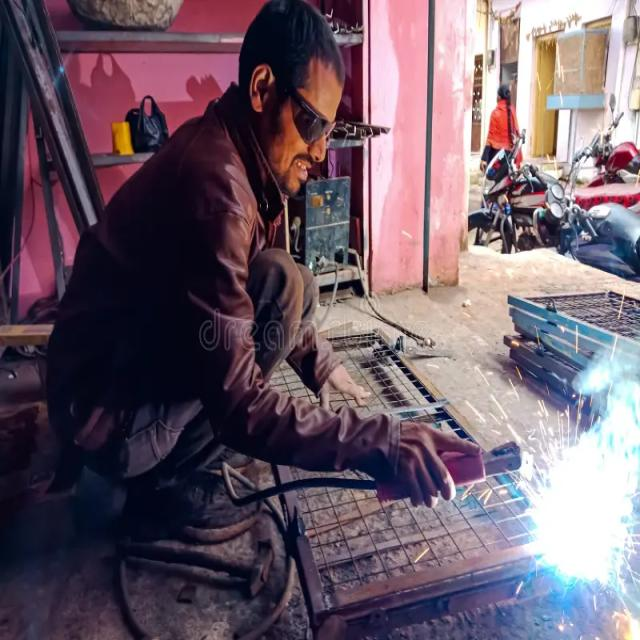without_helmet: (193, 0, 391, 226)
